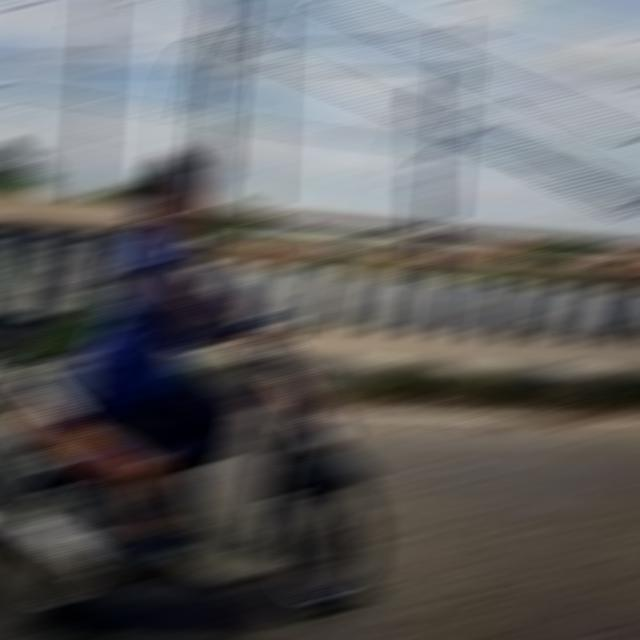Without Helmet: (141, 146, 212, 245)
